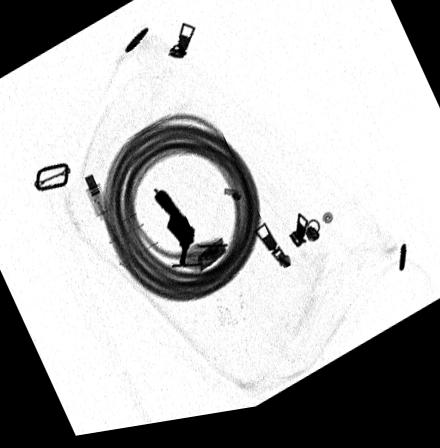Gun: (154, 195, 196, 274)
